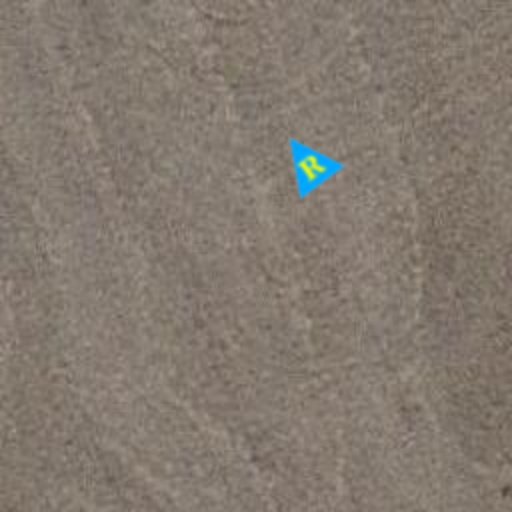triangle: (266, 120, 346, 200)
